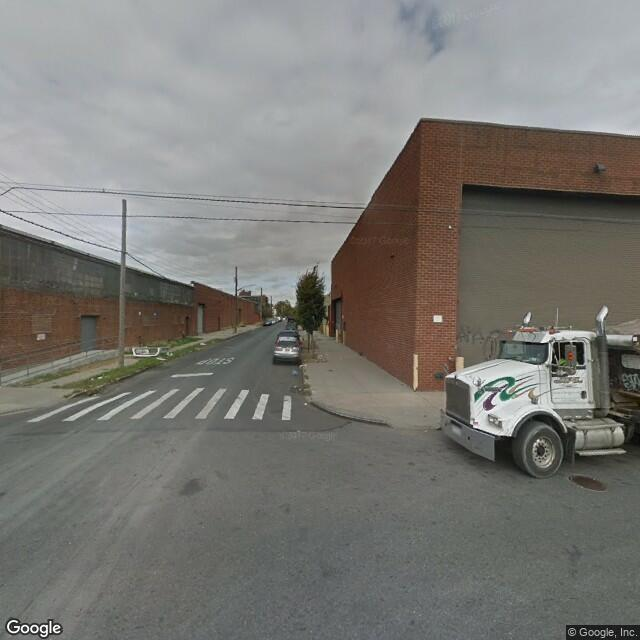litter: (128, 341, 172, 361), (286, 379, 318, 397), (291, 401, 320, 410), (88, 370, 98, 395), (298, 361, 313, 373), (92, 373, 107, 383), (287, 368, 300, 374)
